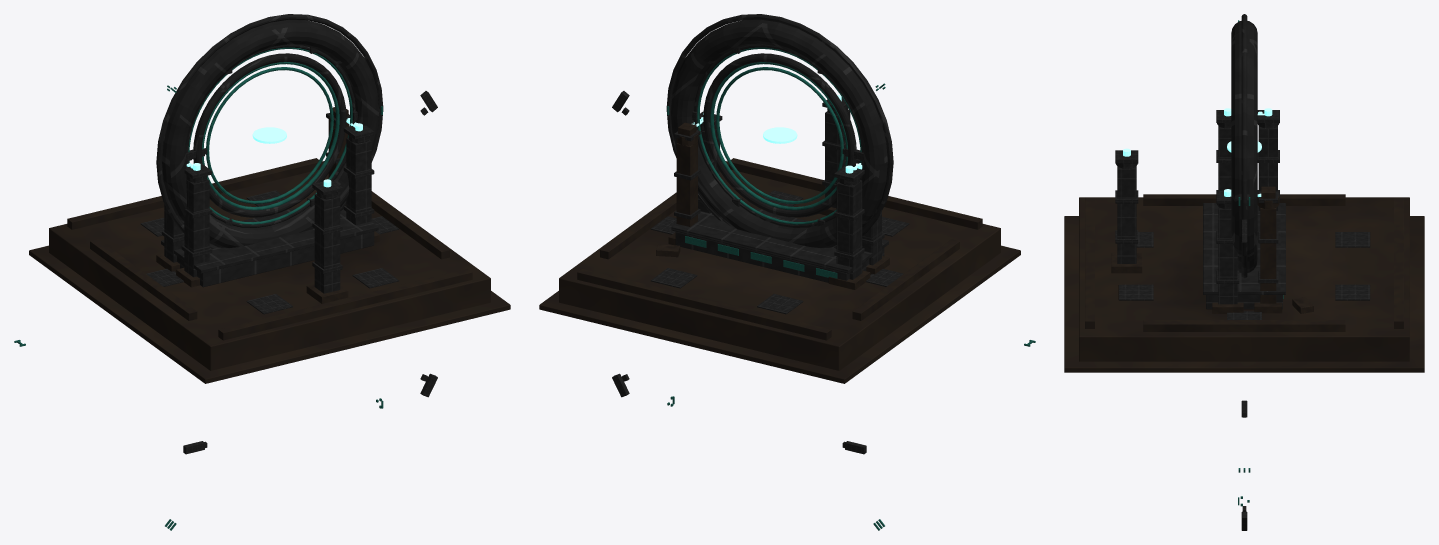
Rendered from nexus_portal_v3.glb.
3 views of the same model, side by side, from view 1: azimuth 30°, elevation 25°; view 2: azimuth 150°, elevation 25°; view 3: azimuth 270°, elevation 25° (orthographic). The views are drawn at different scales.
Parts seen in each view (by area): view 1: Foundation, PrimaryRing, FoundLip, ApertureFrame, TrenchF, PlinthCap, PrimaryOuterBand, TrenchB, PylonShaft_4, Plinth, PylonShaft_0, PylonShaft_1 (+7 smaller); view 2: Foundation, PrimaryRing, FoundLip, ApertureFrame, PlinthCap, TrenchB, PrimaryOuterBand, TrenchF, PylonShaft_2, Plinth, TrenchL, PylonShaft_3 (+7 smaller); view 3: Foundation, FoundLip, PrimaryRing, PlinthCap, TrenchR, PylonShaft_4, PrimaryOuterBand, TrenchL, PylonShaft_1, PylonShaft_3, TrenchB, TrenchF (+7 smaller).
Boxes of the visible parts, <box> form: Foundation: <box>49,161,490,370</box>; PrimaryRing: <box>162,19,379,247</box>; FoundLip: <box>29,245,510,383</box>; ApertureFrame: <box>193,53,346,217</box>; TrenchF: <box>218,268,472,340</box>; PlinthCap: <box>161,207,378,273</box>; PrimaryOuterBand: <box>156,14,383,248</box>; TrenchB: <box>67,158,321,229</box>; PylonShaft_4: <box>314,194,340,293</box>; Plinth: <box>177,231,374,287</box>; PylonShaft_0: <box>184,179,209,277</box>; PylonShaft_1: <box>346,138,371,225</box>; Foundation: <box>559,161,1000,370</box>; PrimaryRing: <box>670,19,887,247</box>; FoundLip: <box>539,245,1020,383</box>; ApertureFrame: <box>703,53,856,217</box>; PlinthCap: <box>671,207,888,273</box>; TrenchB: <box>577,268,831,340</box>; PrimaryOuterBand: <box>666,14,893,248</box>; TrenchF: <box>728,158,982,229</box>; PylonShaft_2: <box>836,180,862,279</box>; Plinth: <box>675,231,884,282</box>; TrenchL: <box>852,239,959,320</box>; PylonShaft_3: <box>676,142,697,226</box>; Foundation: <box>1079,197,1409,361</box>; FoundLip: <box>1064,216,1424,372</box>; PrimaryRing: <box>1231,21,1257,272</box>; PlinthCap: <box>1203,203,1285,294</box>; TrenchR: <box>1143,320,1345,331</box>; PylonShaft_4: <box>1117,166,1136,263</box>; PrimaryOuterBand: <box>1241,14,1247,278</box>; TrenchL: <box>1143,194,1345,205</box>; PylonShaft_1: <box>1218,207,1237,304</box>; PylonShaft_3: <box>1260,208,1276,303</box>; TrenchB: <box>1394,197,1403,328</box>; TrenchF: <box>1085,197,1094,328</box>.
Bounding box in the file's own units: 26.91 × 29.85 × 19.6.
4 materials, 3 textured.
